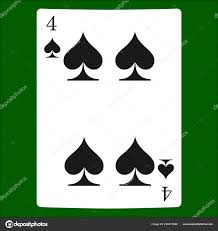four of spades: (37, 8, 180, 206)
